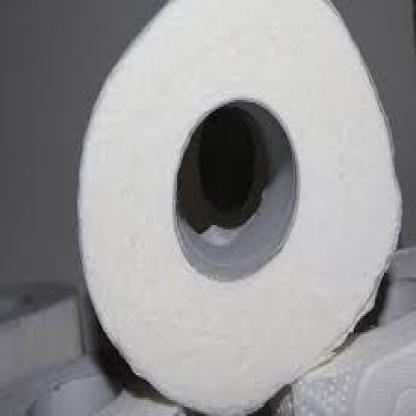tissue: (74, 4, 396, 408)
